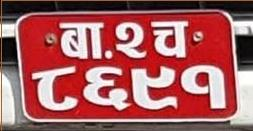1: (180, 62, 229, 112)
2: (114, 20, 149, 59)
6: (81, 64, 132, 112)
8: (28, 64, 80, 112)
9: (129, 62, 180, 111)
ba: (56, 19, 106, 60)
cha: (149, 18, 195, 59)
